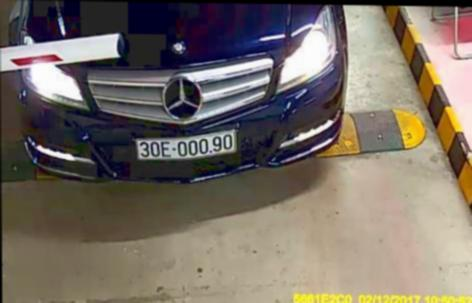License_Plate: (134, 130, 241, 165)
